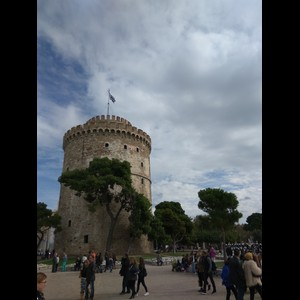White Tower: (51, 89, 158, 259)
